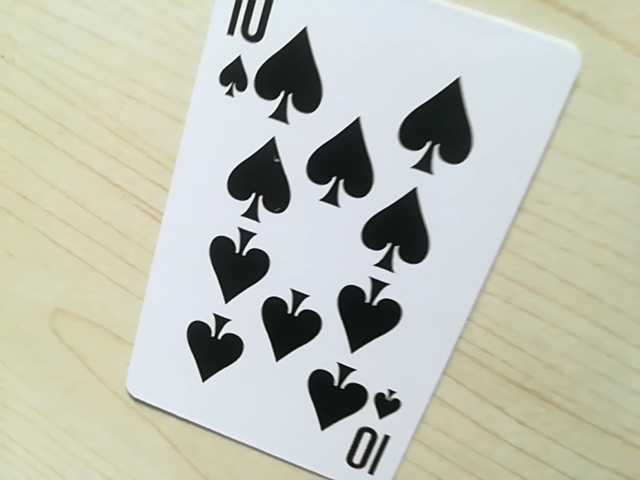ht 10: (205, 2, 279, 104), (338, 386, 410, 480)
